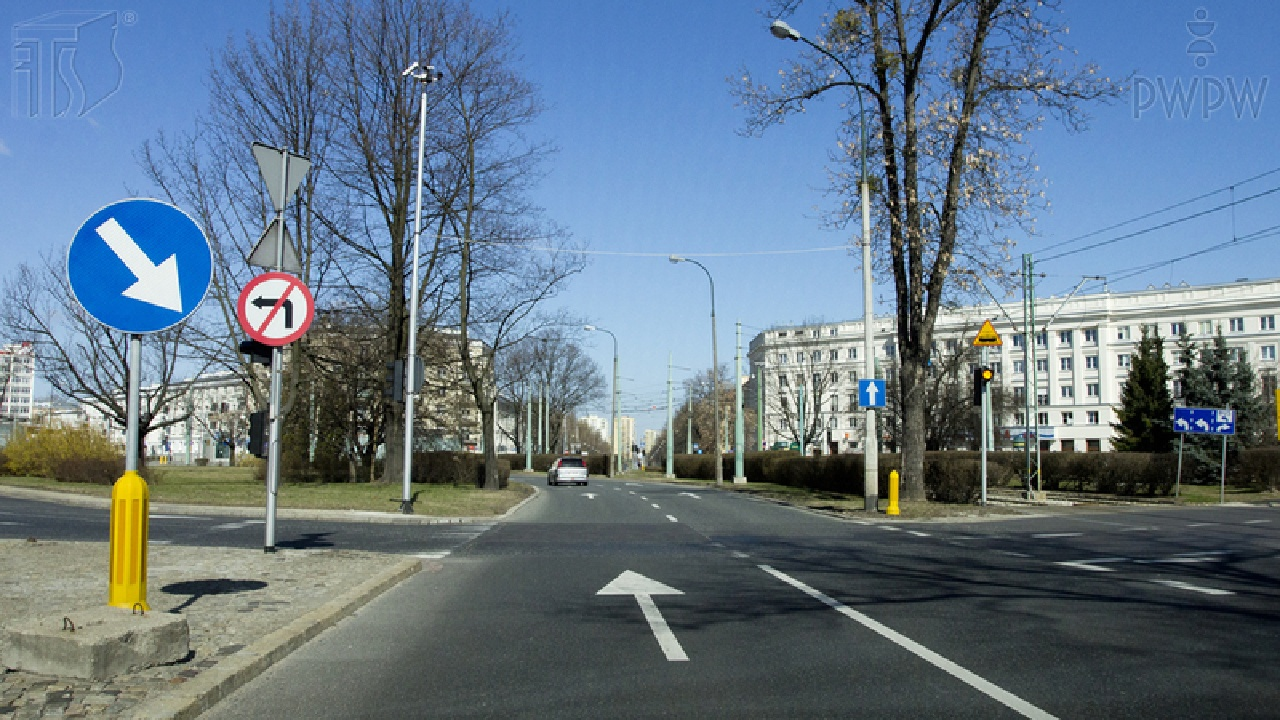B21: (237, 271, 315, 347)
C9: (65, 198, 212, 334)
D3: (859, 379, 885, 407)
